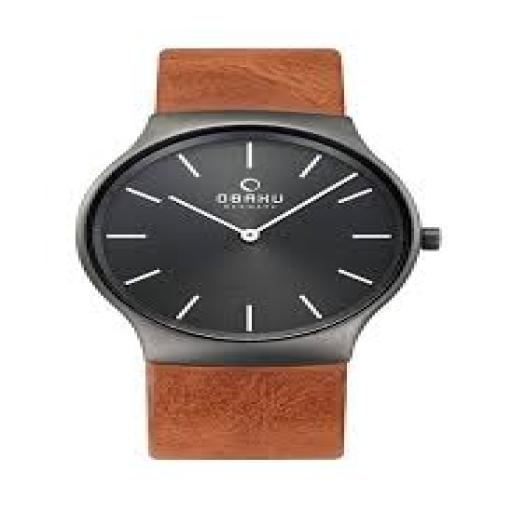KolSaati: (68, 23, 430, 482)
